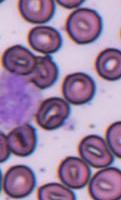N: (1, 72, 40, 128)
